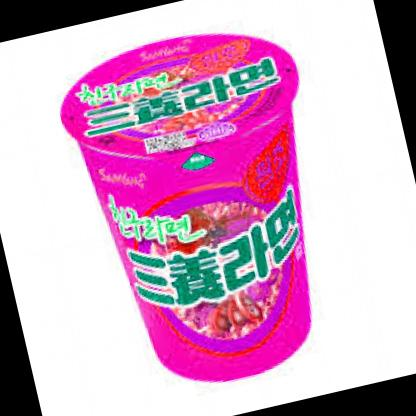Ramen: (43, 10, 350, 401)
